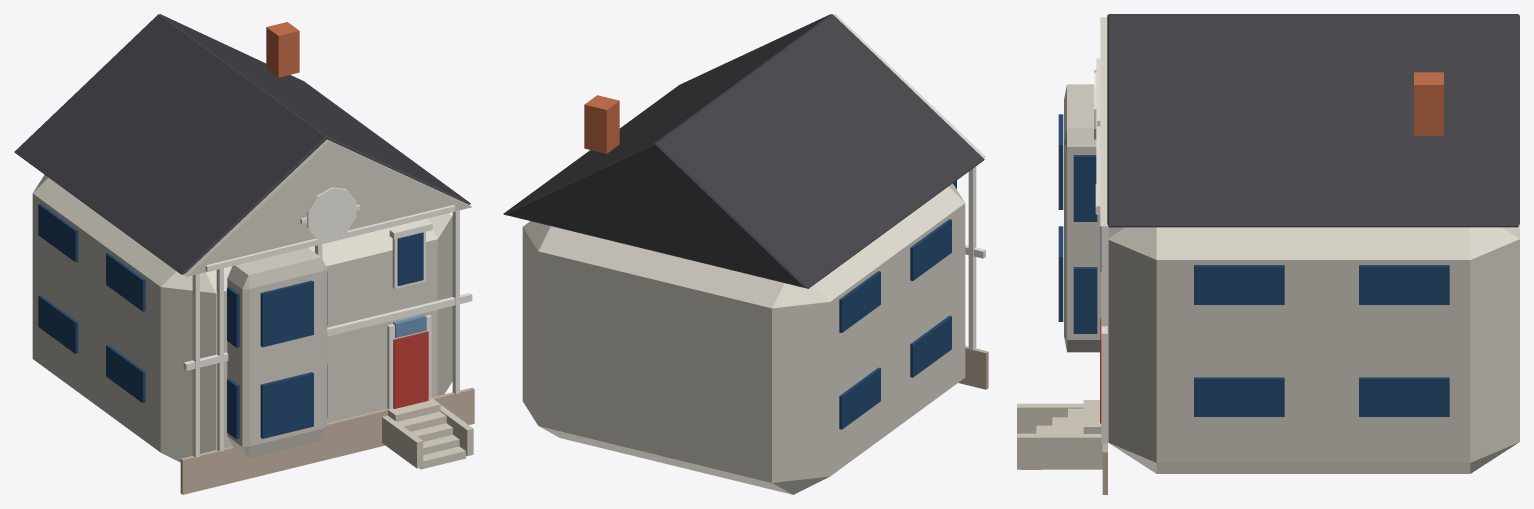
The model's file is stick_w11_gable.glb.
3 renders of one model, left to right at view 1: azimuth 30°, elevation 25°; view 2: azimuth 150°, elevation 25°; view 3: azimuth 270°, elevation 25°, orthographic. The views are drawn at different scales.
Visible parts, largest first — view 1: roof, walls, bay, roof.001, bsmt, bw.001, bw, door, fan, gbase, stickbelt, chim (+18 smaller); view 2: walls, roof, chim, stick.003, sb.004, sb.006, sb, sb.002, bsmt, roof.001; view 3: roof, walls, bay, sb.001, sb.003, sb.005, sb.007, cheek.001, chim, roof.001, bws.001, stick.002 (+6 smaller).
Part boxes in pixels (x1,y1,x2,y2): roof: (14, 14, 470, 274); walls: (32, 174, 452, 462); bay: (227, 247, 327, 458); roof.001: (183, 139, 472, 276); bsmt: (180, 387, 474, 494); bw.001: (260, 280, 313, 347); bw: (260, 372, 313, 438); door: (393, 331, 428, 408); fan: (307, 187, 356, 240); gbase: (205, 205, 455, 271); stickbelt: (183, 293, 472, 370); chim: (266, 22, 299, 77); walls: (522, 183, 965, 494); roof: (503, 14, 984, 288); chim: (584, 95, 619, 153); stick.003: (968, 166, 976, 350); sb.004: (910, 219, 951, 280); sb.006: (839, 271, 880, 332); sb: (910, 315, 951, 377); sb.002: (839, 367, 880, 429); bsmt: (958, 346, 988, 389); roof.001: (834, 14, 985, 158); roof: (1107, 14, 1519, 227); walls: (1108, 224, 1519, 473); bay: (1064, 84, 1101, 352); sb.001: (1194, 377, 1284, 416); sb.003: (1359, 377, 1449, 416); sb.005: (1194, 265, 1284, 304); sb.007: (1359, 265, 1449, 304); cheek.001: (1017, 433, 1102, 469); chim: (1414, 72, 1443, 135); roof.001: (1100, 17, 1107, 226); bws.001: (1073, 267, 1097, 333); stick.002: (1101, 226, 1108, 443).
Size of the model in its own units: 11.2 by 11.56 by 13.4.
